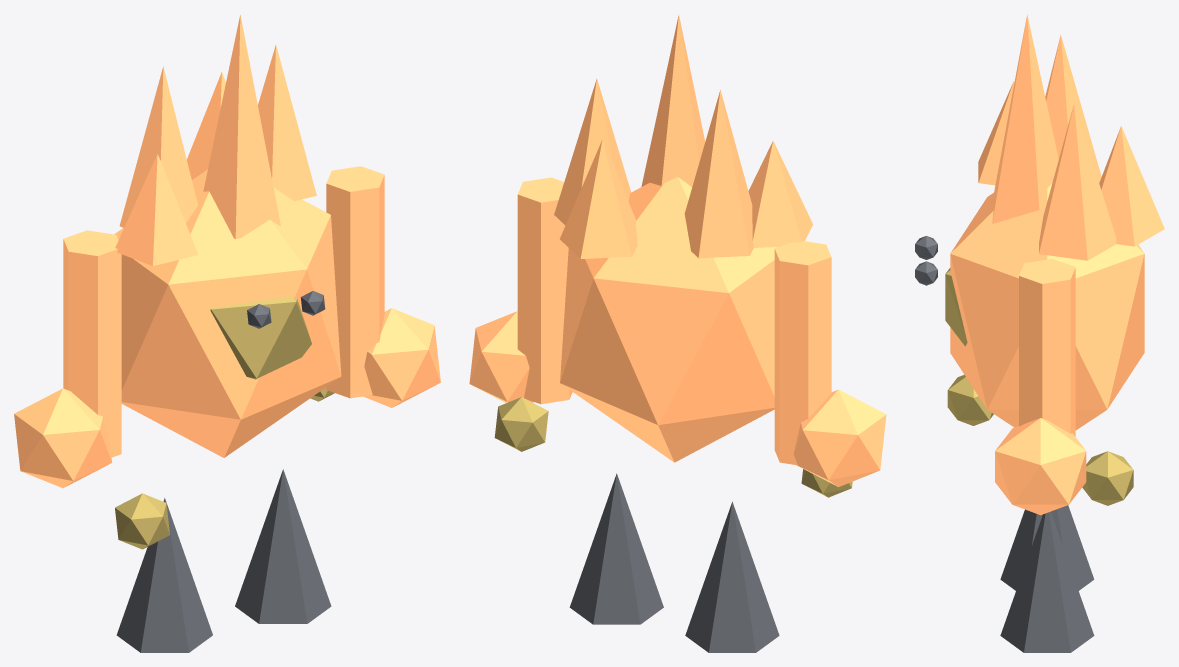
The model's file is fire_elemental.glb.
The picture shows the model from 3 angles, left to right: view 1: azimuth 30°, elevation 25°; view 2: azimuth 150°, elevation 25°; view 3: azimuth 270°, elevation 25°; orthographic projection. The views are drawn at different scales.
Parts seen in each view (by area): view 1: core.001, arm_0.002, arm_1.002, flame_1, leg_1.001, leg_0.001, fist_0, fist_1, inner, flame_4, flame_2, flame_0 (+2 smaller); view 2: core.001, arm_0.002, arm_1.002, leg_1.001, leg_0.001, flame_0, fist_0, flame_1, flame_3, flame_4, fist_1, flame_2 (+2 smaller); view 3: core.001, arm_1.002, leg_1.001, flame_1, fist_1, flame_2, flame_3, leg_0.001, flame_0, ember_1.001, ember_0.001, flame_4 (+3 smaller).
Boxes of the visible parts, box(x1,y1,x2,y2) form: core.001: box(114, 169, 341, 457); arm_0.002: box(63, 230, 121, 457); arm_1.002: box(326, 166, 384, 398); flame_1: box(203, 15, 280, 239); leg_1.001: box(235, 469, 331, 623); leg_0.001: box(116, 498, 212, 652); fist_0: box(14, 388, 112, 488); fist_1: box(363, 308, 440, 407); inner: box(210, 296, 311, 379); flame_4: box(115, 154, 198, 265); flame_2: box(258, 45, 316, 201); flame_0: box(119, 66, 197, 227); core.001: box(560, 177, 777, 462); arm_0.002: box(774, 241, 831, 465); arm_1.002: box(517, 177, 572, 404); leg_1.001: box(569, 473, 663, 624); leg_0.001: box(685, 501, 779, 652); flame_0: box(684, 90, 753, 258); fist_0: box(793, 389, 886, 486); flame_1: box(641, 14, 705, 186); flame_3: box(560, 139, 637, 258); flame_4: box(748, 141, 812, 247); fist_1: box(469, 311, 533, 402); flame_2: box(554, 78, 631, 225); core.001: box(950, 183, 1144, 430); arm_1.002: box(1019, 259, 1075, 436); leg_1.001: box(1000, 511, 1094, 652); flame_1: box(992, 14, 1058, 223); fist_1: box(995, 418, 1086, 515); flame_2: box(1039, 104, 1116, 260); flame_3: box(1099, 126, 1164, 246); leg_0.001: box(1000, 505, 1094, 590); flame_0: box(1045, 34, 1101, 182); ember_1.001: box(1082, 451, 1133, 505); ember_0.001: box(947, 374, 993, 425); flame_4: box(978, 81, 1014, 185).
Size of the model in its own units: 1.39 by 1.96 by 0.744.
